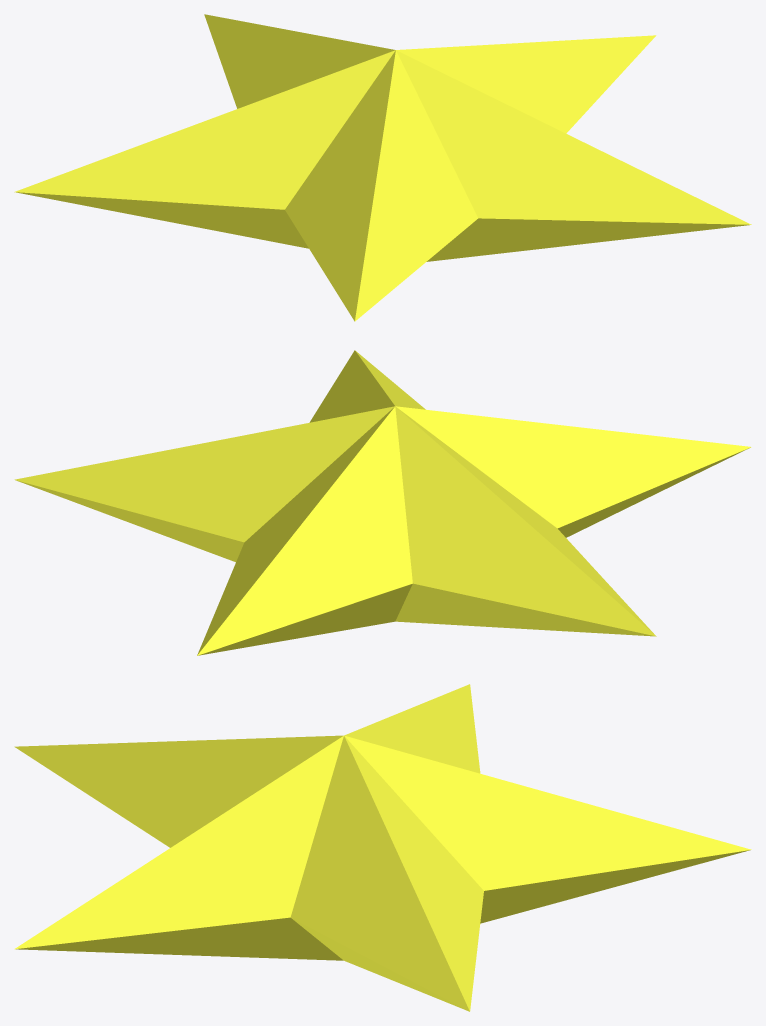
The model's file is PowerUpUnity1.fbx.
The picture shows the model from 3 angles, top to bottom: view 1: azimuth 30°, elevation 25°; view 2: azimuth 150°, elevation 25°; view 3: azimuth 270°, elevation 25°; orthographic projection. The views are drawn at different scales.
Visible parts, largest first — view 1: Circle; view 2: Circle; view 3: Circle.
Part boxes in pixels (x1,y1,x2,y2): Circle: [14, 14, 751, 321]; Circle: [14, 350, 751, 655]; Circle: [14, 684, 751, 1011].
Bounding box in the file's own units: 10696 × 3426 × 10173.
